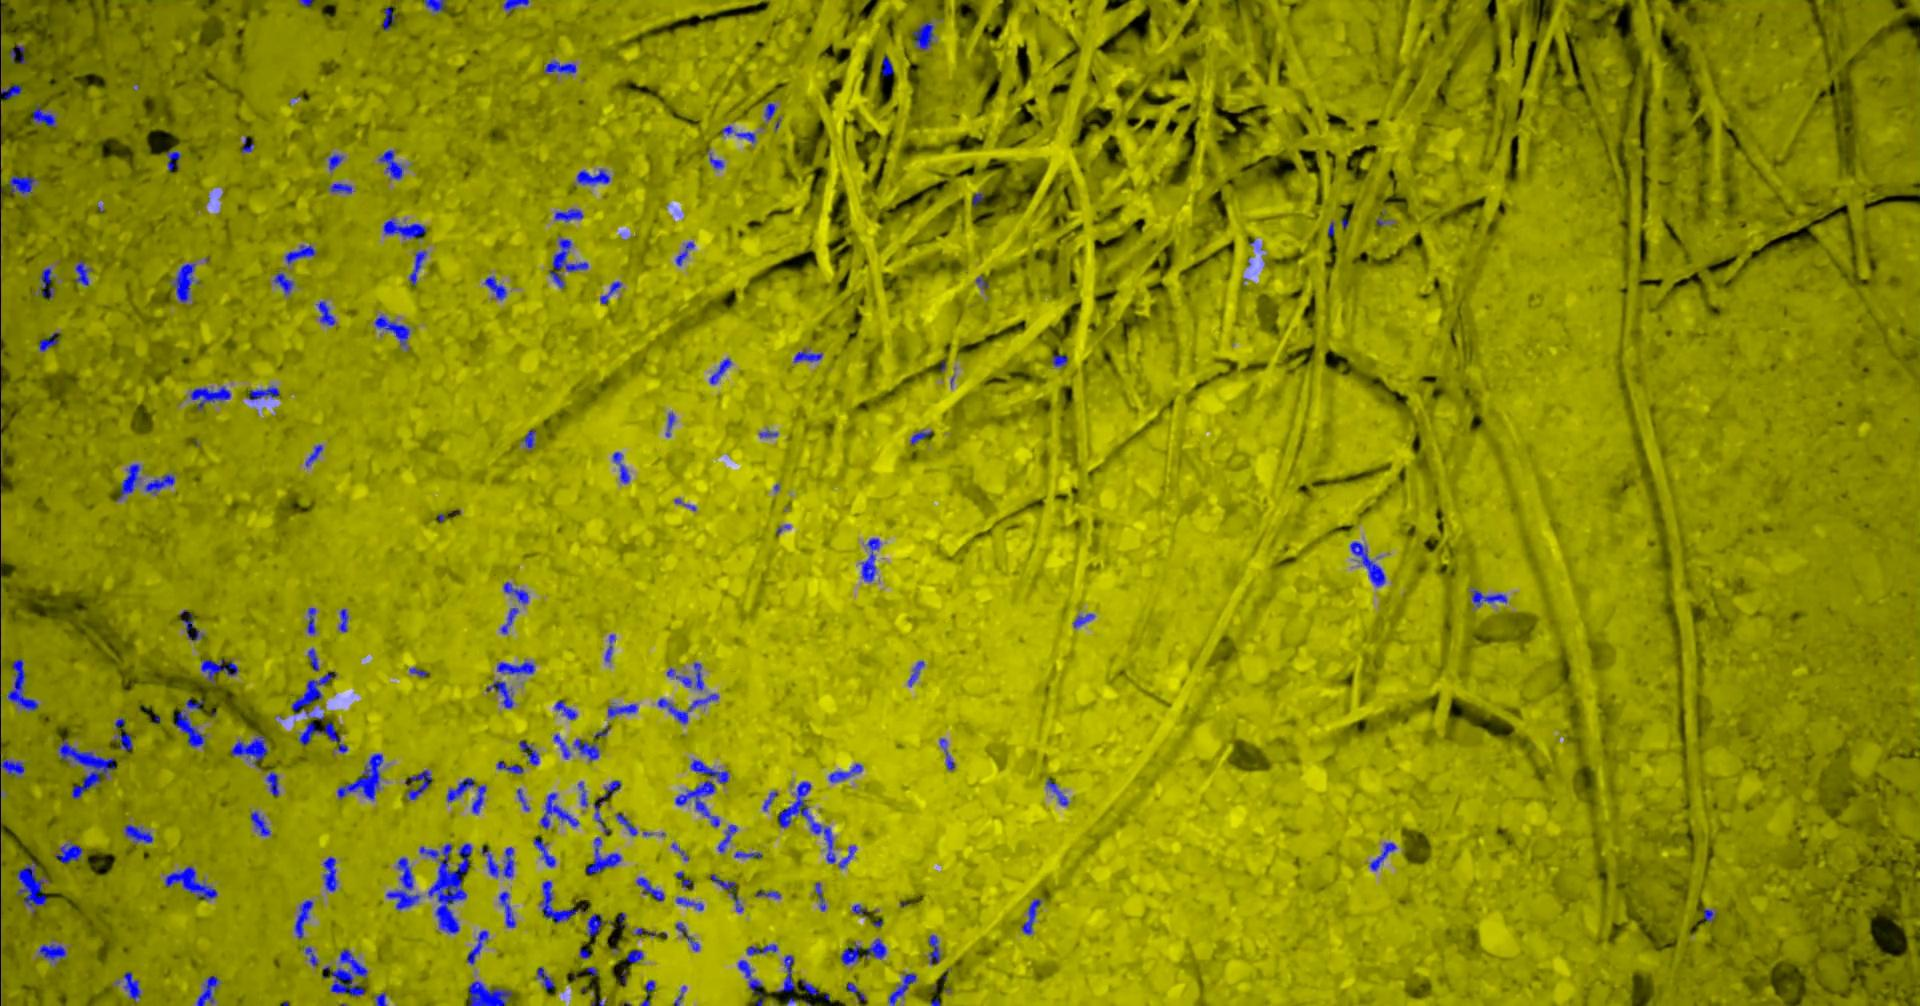ant: (780, 781, 858, 868), (676, 760, 729, 827), (338, 753, 383, 800), (551, 238, 589, 288), (541, 880, 587, 922), (331, 948, 370, 996), (300, 715, 349, 752), (293, 672, 338, 713), (18, 860, 51, 915), (387, 857, 422, 909), (659, 694, 720, 723), (166, 866, 218, 899), (9, 658, 41, 710), (1351, 541, 1387, 586), (587, 836, 623, 874), (542, 793, 580, 828), (739, 959, 767, 1005), (712, 873, 745, 911), (376, 312, 411, 345), (175, 710, 207, 747), (232, 734, 269, 763), (470, 981, 513, 1005), (668, 662, 705, 690), (483, 846, 516, 876), (190, 386, 232, 409), (890, 972, 918, 1005), (173, 263, 197, 301), (118, 464, 142, 500), (202, 659, 239, 683), (383, 218, 428, 238), (406, 768, 433, 799), (863, 539, 883, 580), (488, 680, 516, 708), (182, 608, 206, 640), (1371, 842, 1398, 870), (380, 149, 404, 179), (469, 930, 490, 963), (448, 777, 477, 801), (777, 954, 796, 991), (1023, 898, 1043, 934), (296, 899, 314, 937), (637, 876, 665, 901), (677, 922, 701, 950), (535, 838, 557, 868), (198, 976, 221, 1005), (146, 473, 177, 494), (723, 124, 757, 144), (286, 244, 317, 264), (1048, 777, 1070, 805), (1470, 589, 1509, 606), (830, 763, 863, 782), (33, 103, 58, 127), (578, 168, 612, 185), (500, 890, 517, 927), (913, 22, 935, 50), (598, 780, 622, 804), (711, 357, 733, 384), (719, 824, 739, 852), (411, 250, 428, 285), (575, 738, 599, 761), (57, 842, 84, 862), (124, 970, 142, 1001), (498, 661, 536, 674), (126, 824, 154, 843), (615, 451, 631, 483), (601, 281, 623, 304), (324, 856, 339, 890), (505, 582, 530, 603), (9, 175, 36, 194), (486, 276, 508, 298), (865, 937, 888, 959), (521, 739, 541, 763), (251, 810, 272, 835), (317, 300, 337, 325), (502, 607, 521, 633), (596, 803, 611, 835), (41, 942, 67, 960), (617, 813, 639, 835), (941, 738, 956, 768), (842, 941, 862, 964), (677, 241, 696, 265), (545, 60, 577, 74), (41, 267, 55, 298), (537, 967, 556, 989), (250, 385, 281, 399), (472, 785, 488, 813), (555, 734, 571, 760), (276, 272, 295, 293), (556, 700, 578, 719), (610, 702, 639, 716), (910, 661, 926, 686), (930, 934, 942, 964), (498, 760, 524, 774), (556, 208, 585, 221), (77, 260, 93, 285), (1, 760, 25, 775), (41, 332, 60, 351), (1, 83, 23, 99), (307, 445, 324, 466), (677, 897, 705, 909), (589, 913, 604, 936), (748, 944, 778, 955), (848, 982, 867, 1000), (383, 6, 397, 30), (643, 981, 657, 1005), (504, 0, 530, 13), (795, 351, 823, 362), (10, 44, 27, 64), (116, 733, 135, 749), (168, 151, 183, 171), (267, 771, 279, 795), (606, 634, 617, 661), (912, 431, 933, 445), (1074, 614, 1096, 627), (518, 788, 531, 810), (817, 882, 827, 909), (883, 55, 895, 76), (676, 871, 693, 887), (803, 979, 820, 995), (764, 791, 778, 810), (306, 946, 320, 965), (579, 781, 589, 807), (330, 154, 345, 170), (425, 0, 447, 11), (309, 648, 320, 669), (309, 607, 317, 634), (330, 183, 353, 193), (766, 102, 778, 119), (627, 949, 645, 962), (667, 412, 676, 436), (711, 152, 725, 168), (524, 429, 536, 447), (340, 608, 349, 631), (187, 699, 204, 710), (737, 850, 763, 857), (411, 667, 430, 677), (757, 890, 782, 898), (1053, 354, 1069, 366), (973, 192, 985, 206), (376, 992, 389, 1005), (853, 904, 869, 915), (1705, 908, 1716, 920)
